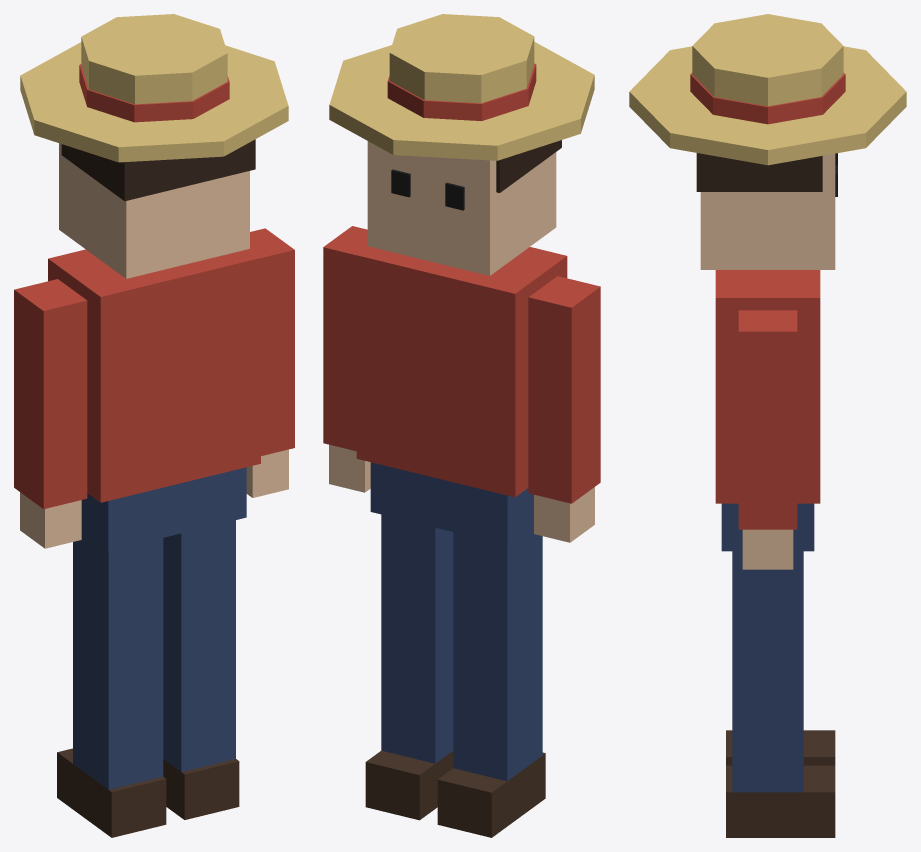
File: worker_male.glb
3 views of the same model, side by side, from view 1: azimuth 30°, elevation 25°; view 2: azimuth 150°, elevation 25°; view 3: azimuth 270°, elevation 25° (orthographic).
Visible parts, largest first — view 1: worker_male.001; view 2: worker_male.001; view 3: worker_male.001.
Part boxes in pixels (x1=…): worker_male.001: x1=14, y1=14, x2=294, y2=837; worker_male.001: x1=323, y1=14, x2=600, y2=837; worker_male.001: x1=629, y1=14, x2=906, y2=837.
Size of the model in its own units: 0.69 by 2 by 0.66.
1 material, 1 textured.
